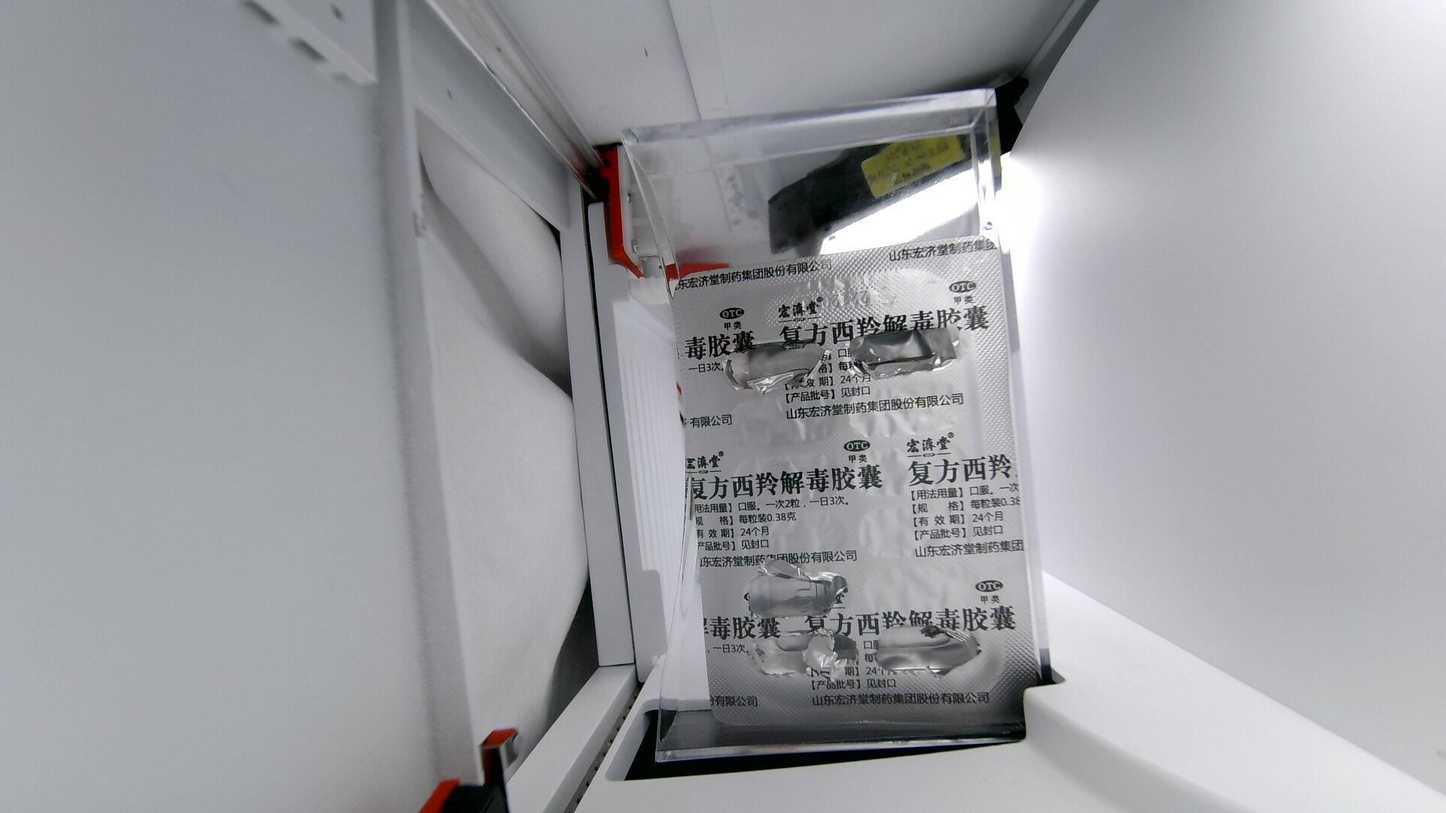No Pill Back: (876, 616, 985, 678), (718, 335, 832, 388), (743, 567, 856, 620), (848, 327, 962, 376), (749, 629, 859, 679)
Pill Back: (845, 450, 982, 500), (867, 558, 984, 615), (717, 397, 844, 449), (849, 507, 988, 553), (724, 452, 840, 502), (852, 388, 966, 434), (730, 509, 843, 549)
